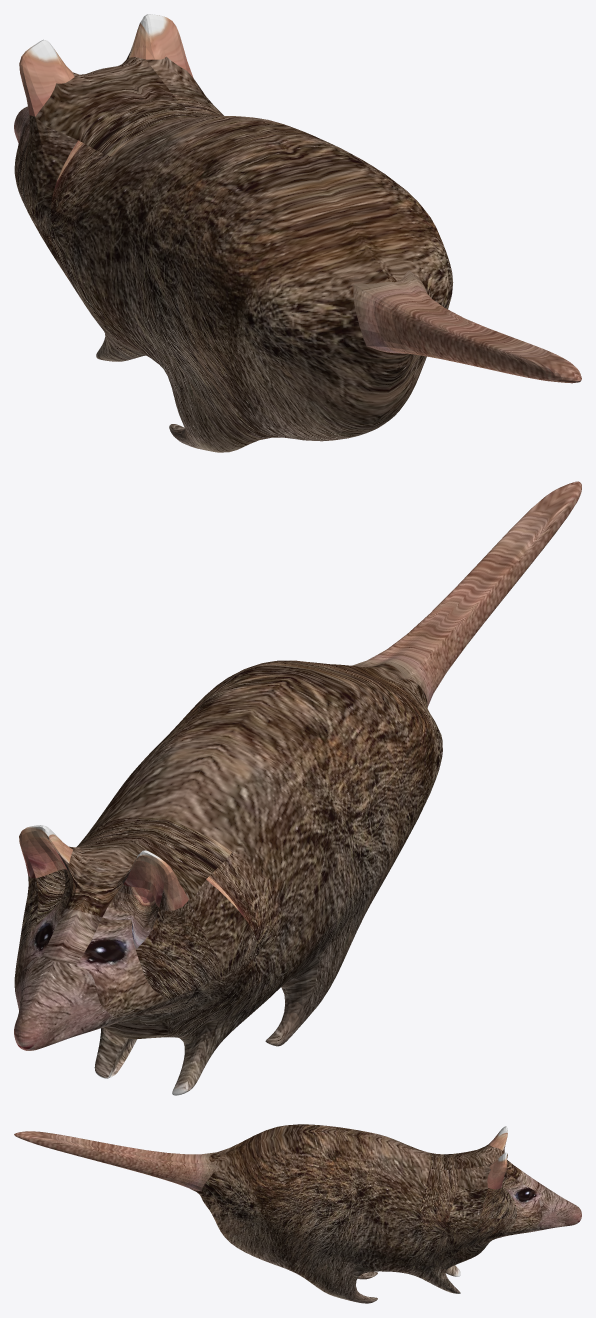
Rendered from rata.obj.
The picture shows the model from 3 angles, top to bottom: view 1: azimuth 30°, elevation 25°; view 2: azimuth 150°, elevation 25°; view 3: azimuth 270°, elevation 25°; orthographic projection. The views are drawn at different scales.
Visible parts, largest first — view 1: Cube; view 2: Cube; view 3: Cube.
Part boxes in pixels (x1,y1,x2,y2): Cube: (14, 14, 581, 452); Cube: (14, 481, 581, 1095); Cube: (14, 1124, 581, 1303).
Bounding box in the file's own units: 7.34 × 10.33 × 33.29.
1 material, 1 textured.
